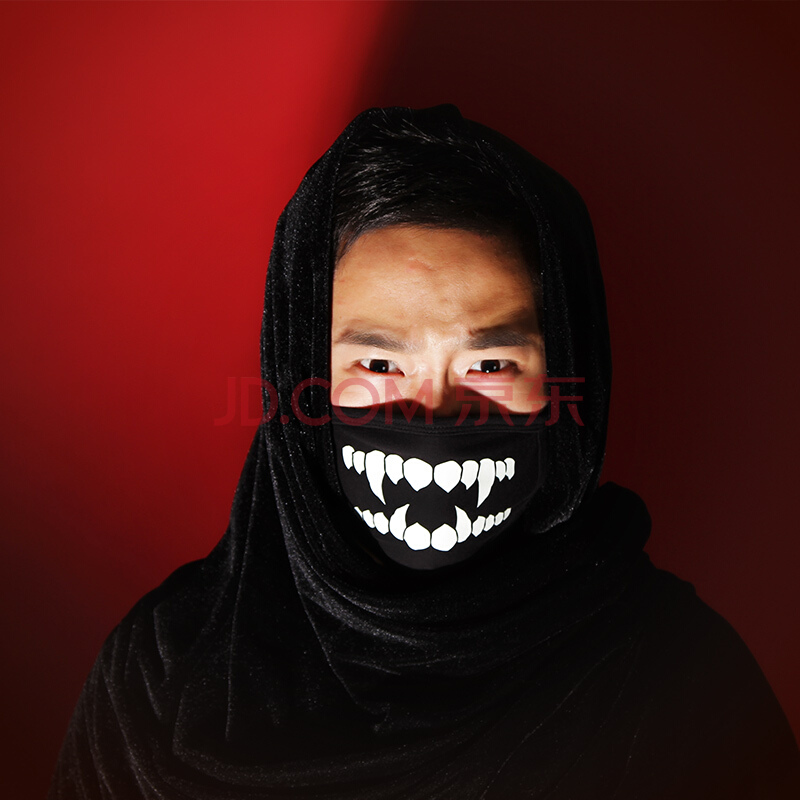face_mask: (323, 234, 546, 567)
